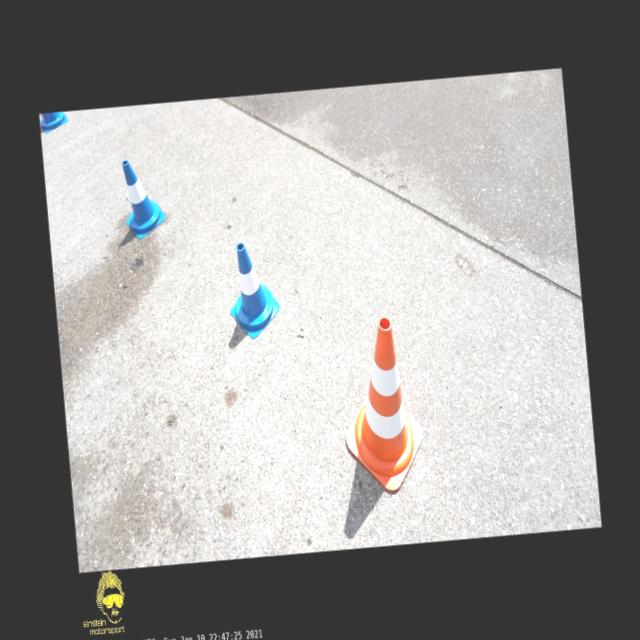blue_cone: (224, 238, 284, 340), (120, 157, 166, 240)
large_orange_cone: (334, 314, 426, 496)
